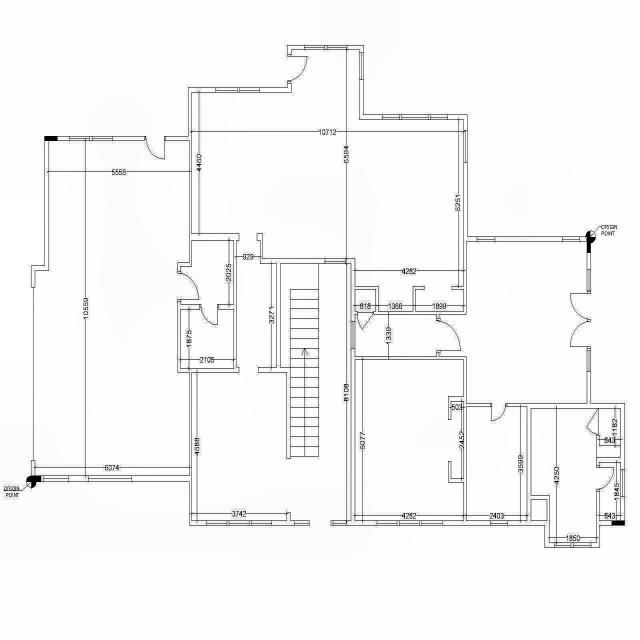Column: (611, 520, 625, 526), (587, 236, 591, 254), (32, 475, 42, 482), (44, 136, 58, 141)
Door: (436, 318, 462, 353), (178, 272, 199, 302), (288, 54, 308, 84), (144, 136, 165, 160), (596, 466, 614, 491), (586, 408, 600, 436), (200, 304, 218, 325), (490, 404, 508, 422), (357, 311, 374, 330)
Double-Door: (569, 292, 591, 348)
Staircase: (280, 264, 319, 459)
Window: (206, 520, 272, 526), (382, 114, 448, 120), (377, 520, 442, 526), (88, 476, 132, 482), (554, 542, 592, 548), (304, 45, 347, 50), (70, 136, 112, 141), (216, 88, 260, 92), (463, 130, 468, 162), (44, 476, 68, 482), (359, 53, 364, 80), (324, 258, 346, 264), (620, 469, 624, 497), (490, 520, 508, 526), (351, 321, 355, 348), (294, 520, 310, 526), (331, 520, 347, 526), (562, 237, 580, 242), (477, 237, 495, 242), (587, 270, 591, 292)
